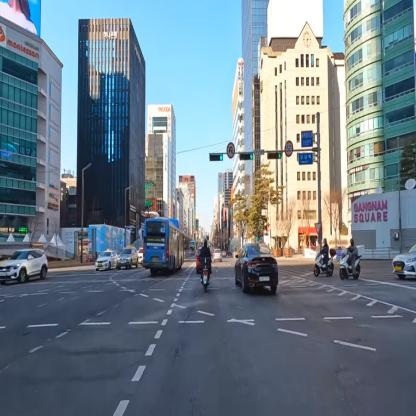Green: (210, 153, 224, 162), (239, 153, 254, 161), (268, 152, 282, 160)
